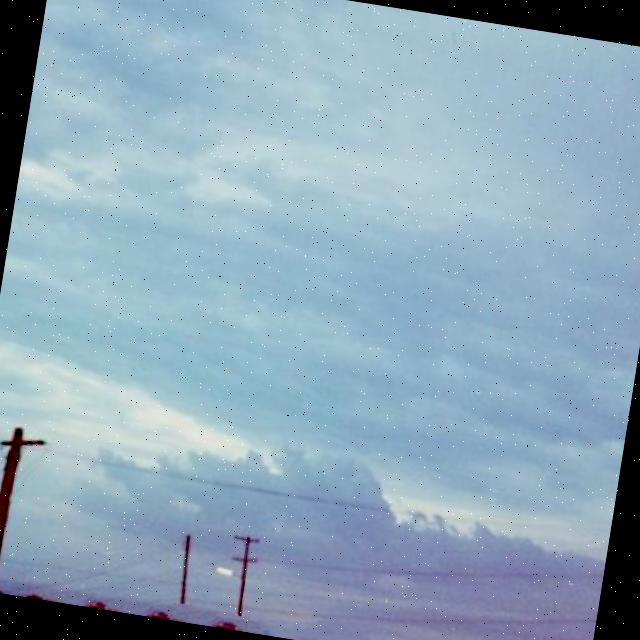Sc: (1, 1, 640, 491)
